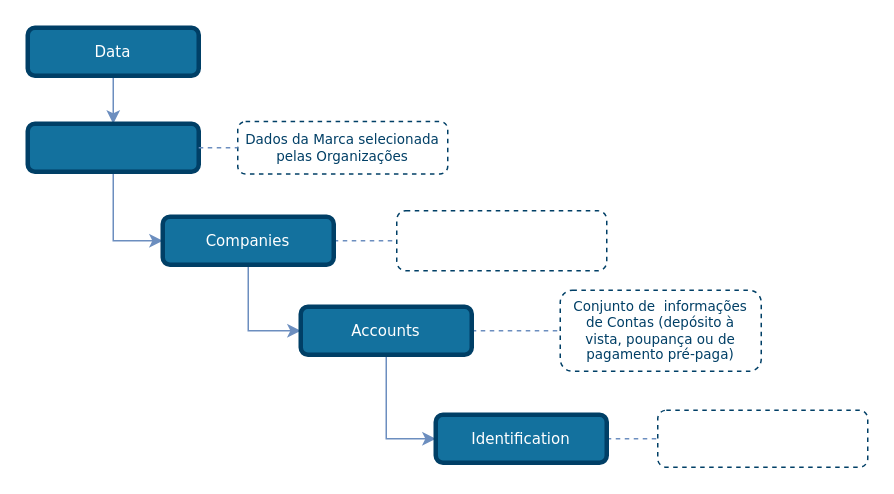
The diagram is 894 pixels wide and 494 high, and some of its shapes have lost their labels. The centre of each missing label's shape, as x and y in pixels:
"Brand" goes at (112,147).
"Conjunto de informações sobre a instituição financeira" goes at (501,240).
"Informações relativas à identificação da Conta" goes at (762,438).
